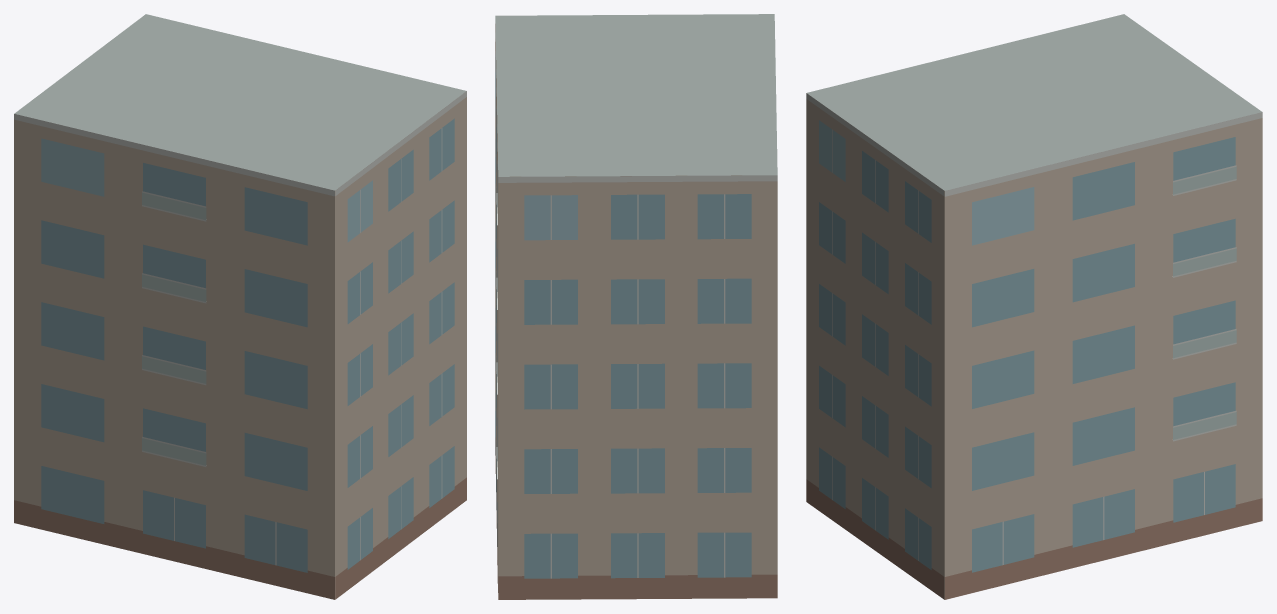
The model's file is survey-upis-32856336.glb.
3 views of the same model, side by side, from view 1: azimuth 30°, elevation 25°; view 2: azimuth 150°, elevation 25°; view 3: azimuth 270°, elevation 25° (orthographic). The views are drawn at different scales.
Visible parts, largest first — view 1: survey-upis-32856336.tmp; view 2: survey-upis-32856336.tmp; view 3: survey-upis-32856336.tmp.
Part boxes in pixels (bbox=[...]): survey-upis-32856336.tmp: bbox=[14, 14, 466, 599]; survey-upis-32856336.tmp: bbox=[495, 14, 777, 599]; survey-upis-32856336.tmp: bbox=[806, 14, 1262, 599].
Bounding box in the file's own units: 15.79 × 17 × 17.2.
